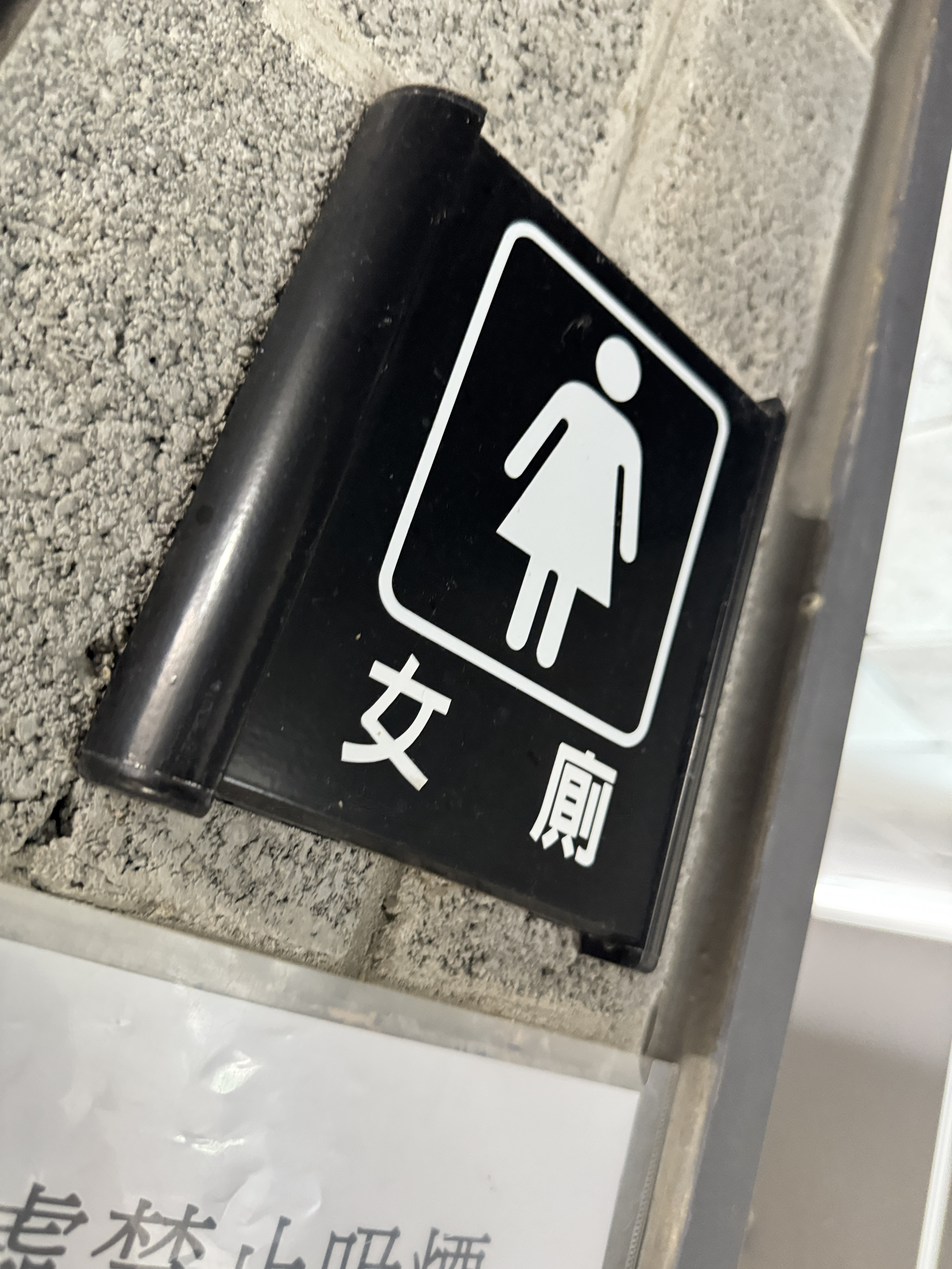toilet_sign: (88, 82, 801, 982), (158, 94, 775, 964)
